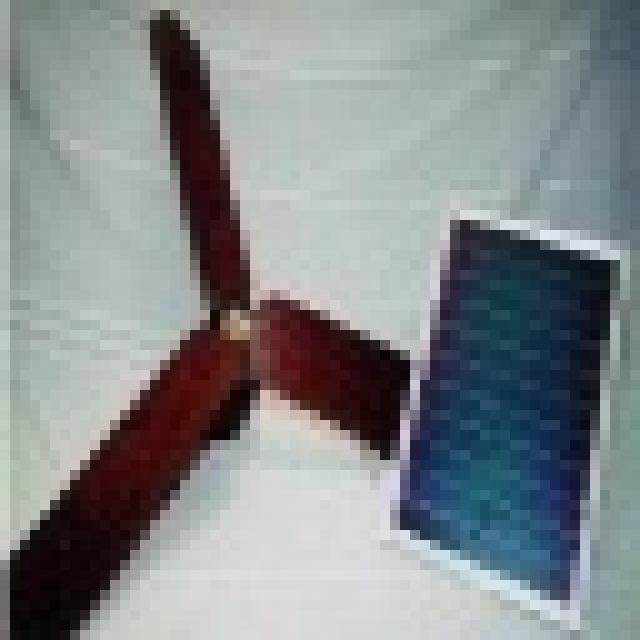Bulb: (14, 32, 428, 628)
